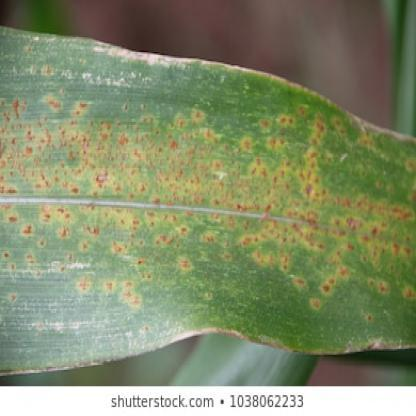Corn rust leaf: (1, 25, 415, 382)
